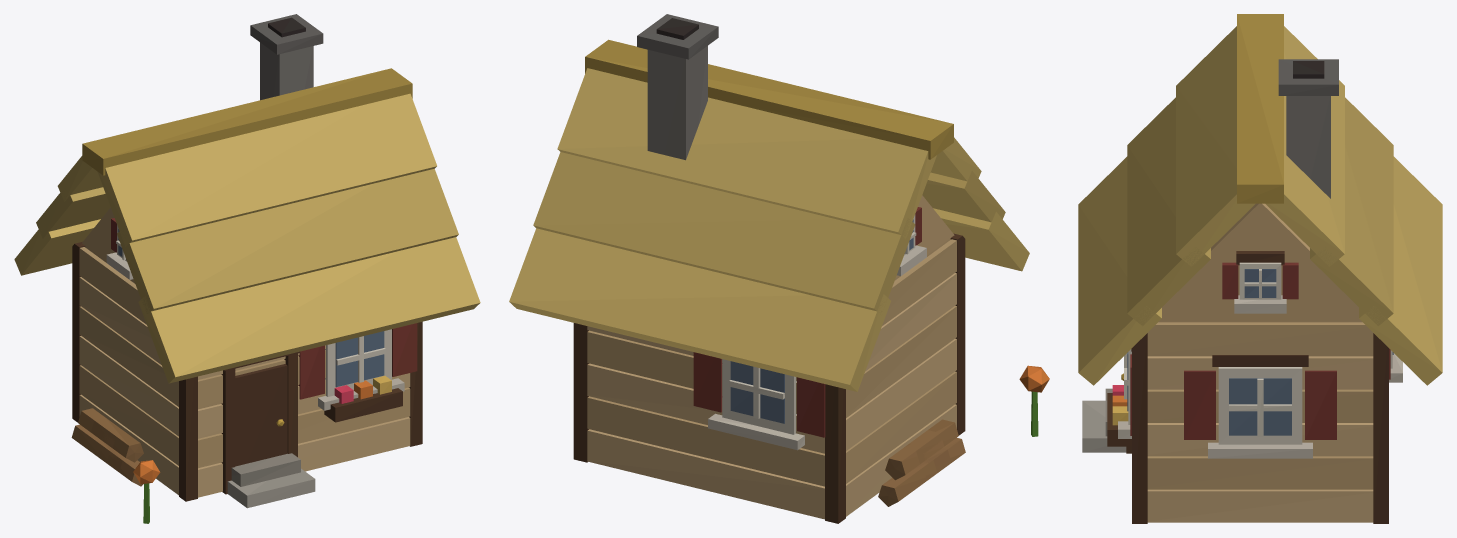
Rendered from maison-tropique.glb.
3 views of the same model, side by side, from view 1: azimuth 30°, elevation 25°; view 2: azimuth 150°, elevation 25°; view 3: azimuth 270°, elevation 25° (orthographic). The views are drawn at different scales.
Bounding box in the file's own units: 6.05 × 6.5 × 5.06.
